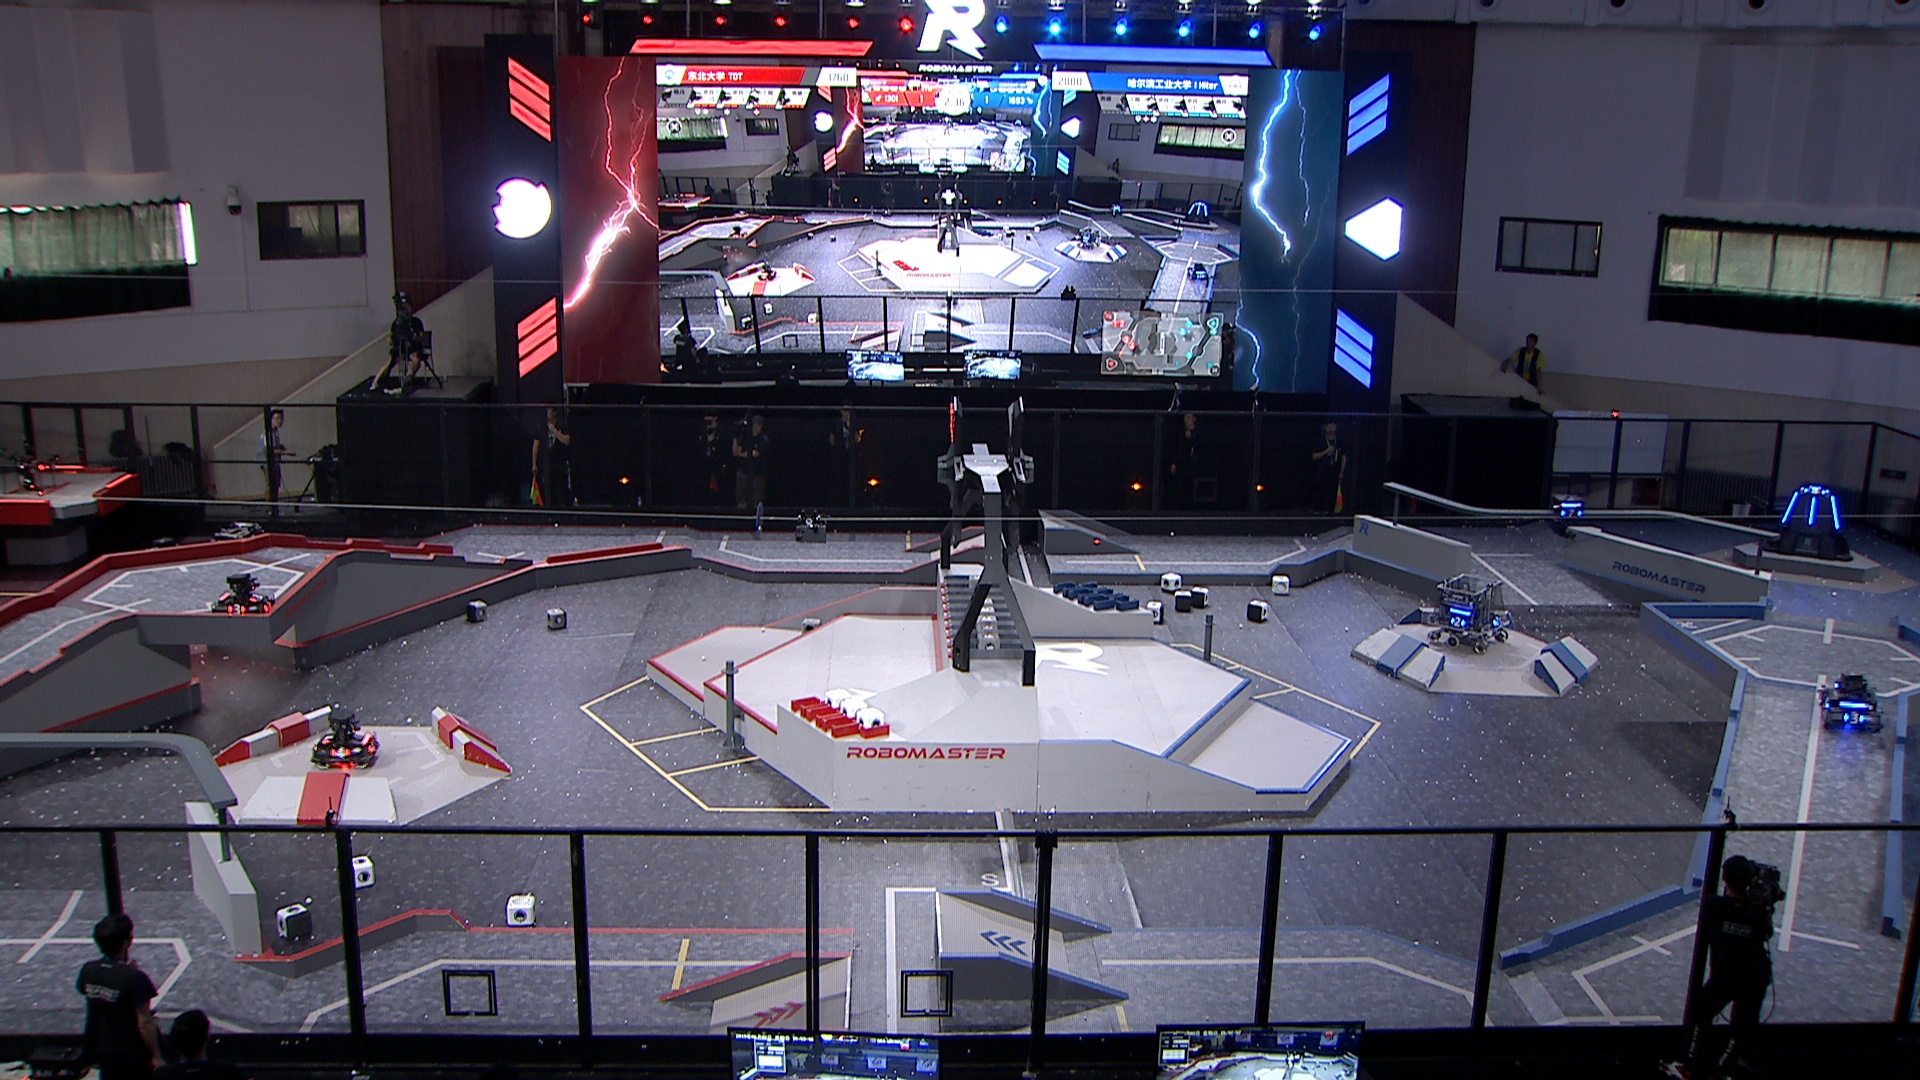armor: (1778, 489, 1803, 524), (1826, 495, 1842, 531), (1804, 495, 1821, 527), (1841, 708, 1869, 727), (1557, 505, 1585, 522), (328, 745, 353, 761), (1803, 484, 1828, 498), (363, 737, 381, 756), (224, 603, 249, 616), (258, 597, 276, 615), (248, 589, 266, 605), (1447, 615, 1466, 629), (1489, 612, 1505, 628), (1818, 694, 1833, 709), (320, 731, 335, 745)
base: (1759, 480, 1858, 566)
car: (1428, 568, 1514, 655), (200, 518, 282, 597), (309, 707, 384, 775), (1815, 669, 1883, 733), (207, 568, 278, 628)
ignore: (1183, 199, 1215, 225), (1069, 224, 1101, 251), (756, 258, 779, 282), (1187, 261, 1211, 284), (727, 223, 752, 243), (1106, 200, 1122, 219)
watcher: (1547, 485, 1590, 541)
